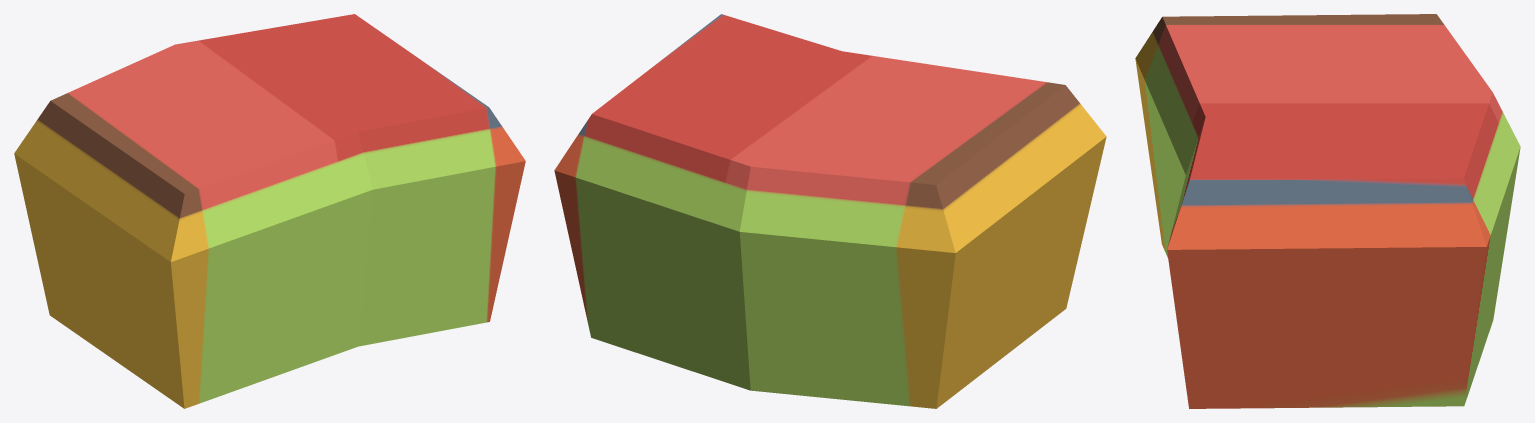
The model's file is rock_12.fbx.
3 views of the same model, side by side, from view 1: azimuth 30°, elevation 25°; view 2: azimuth 150°, elevation 25°; view 3: azimuth 270°, elevation 25° (orthographic). The views are drawn at different scales.
Visible parts, largest first — view 1: rock_12; view 2: rock_12; view 3: rock_12.
Part boxes in pixels (x1,y1,x2,y2): rock_12: (14,14,525,408); rock_12: (554,14,1106,408); rock_12: (1135,14,1520,408).
Bounding box in the file's own units: 79.52 × 43.37 × 66.51.
